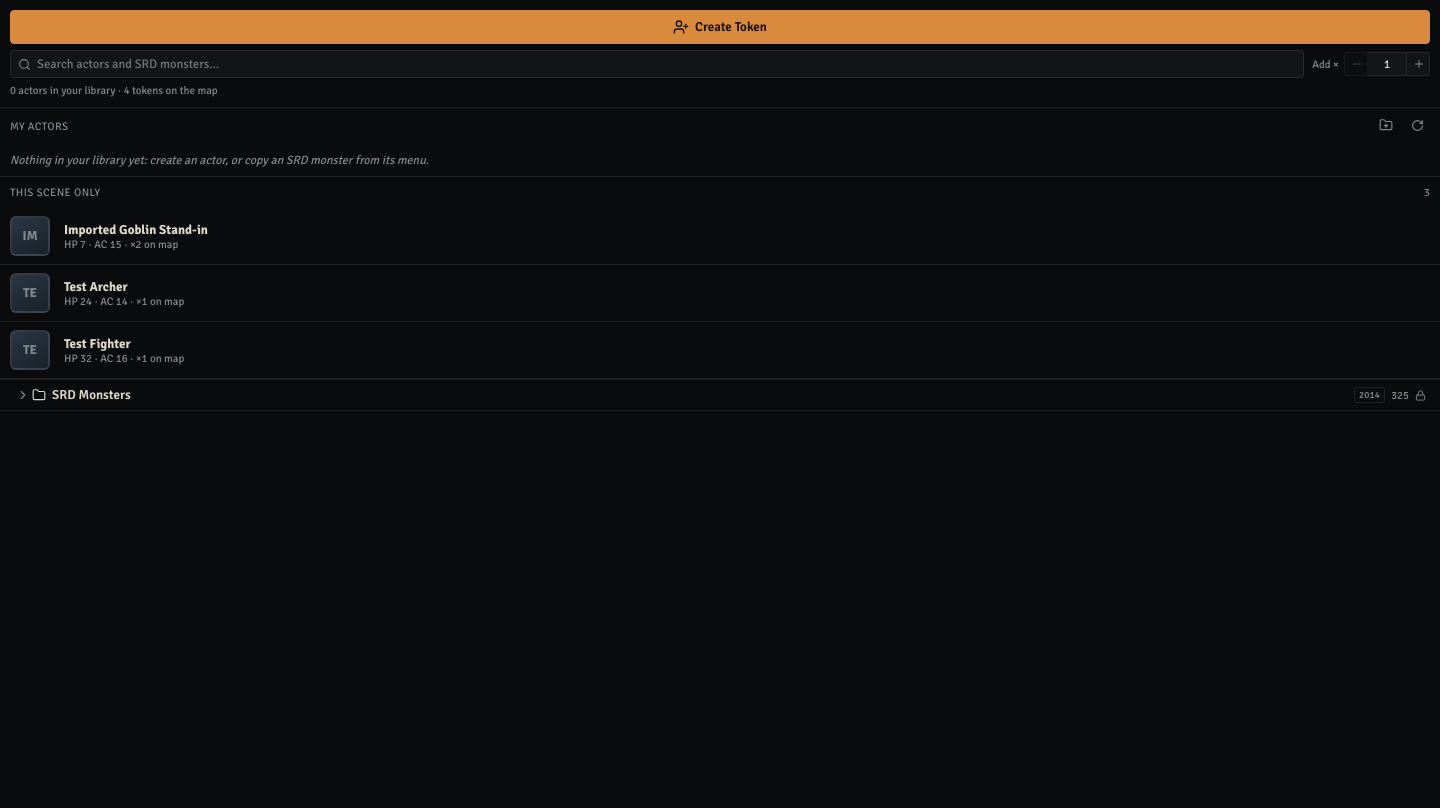
it: SRD monster filters › filters by CR minimum and maximum
The width and height of the screenshot is (1440, 808).
Click the text "SRD Monsters": (91, 395) [52,387,131,403]
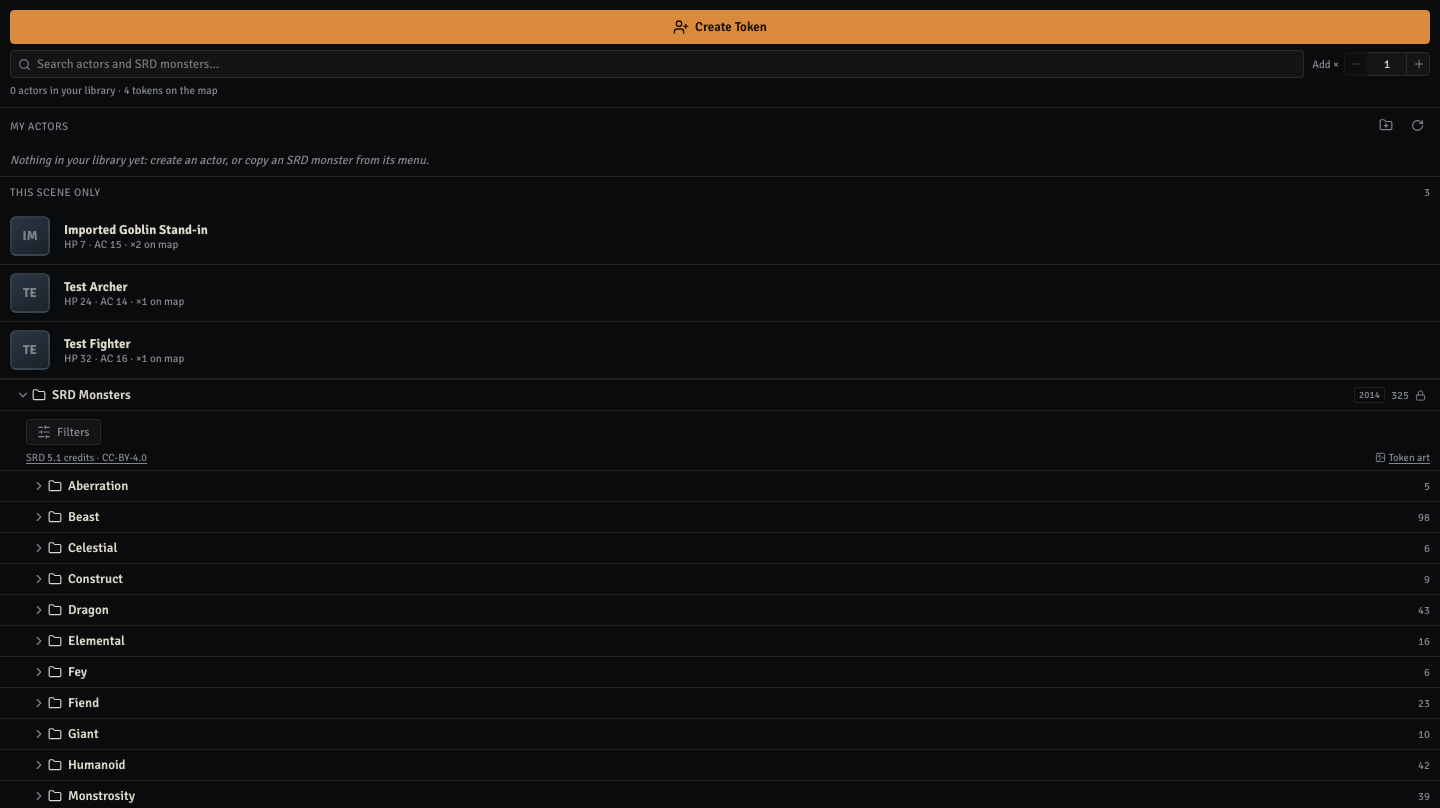
Click the button "Filters": (63, 432) [26,419,101,445]
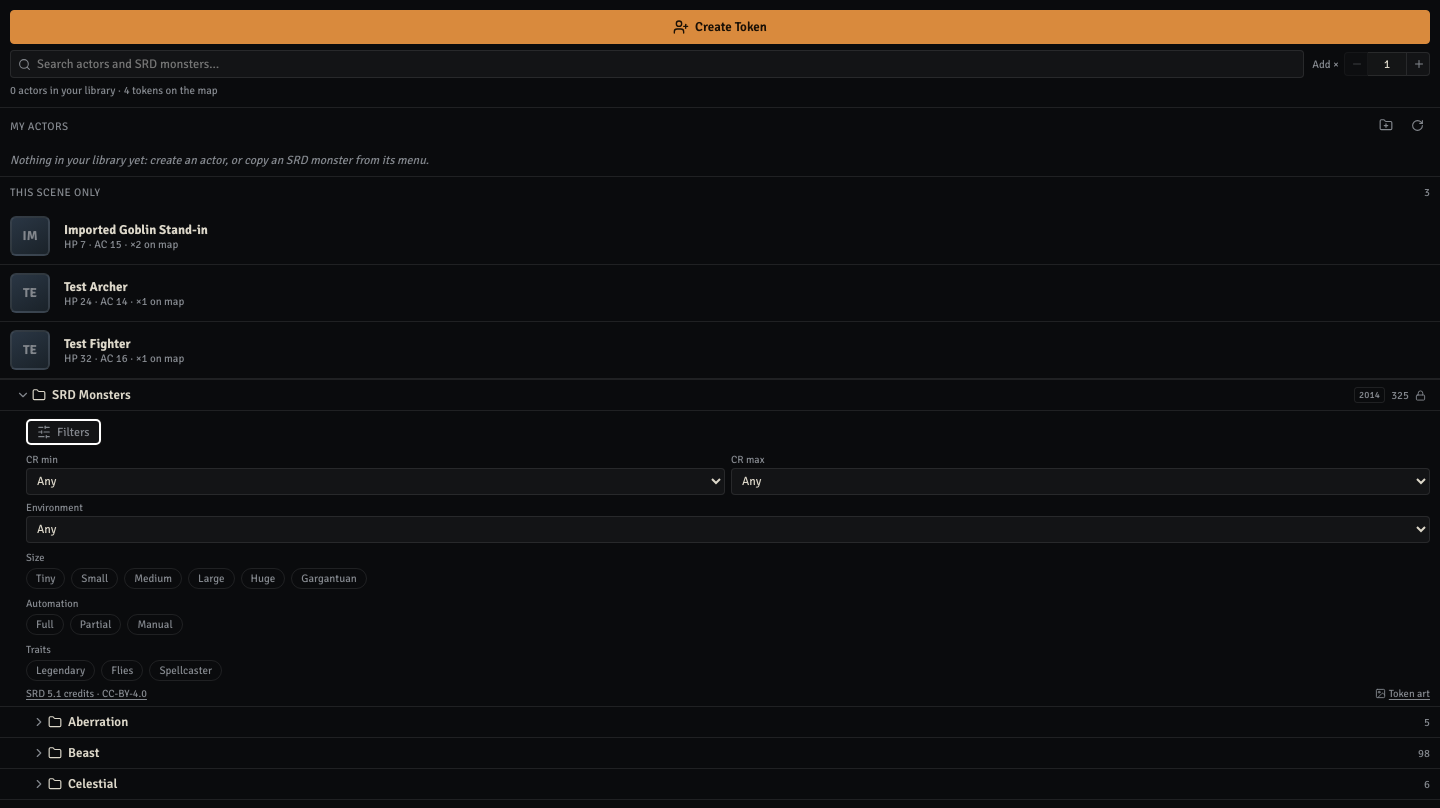
Select "17" in the dropdown named "Minimum challenge rating": (376, 482) [26,468,725,495]
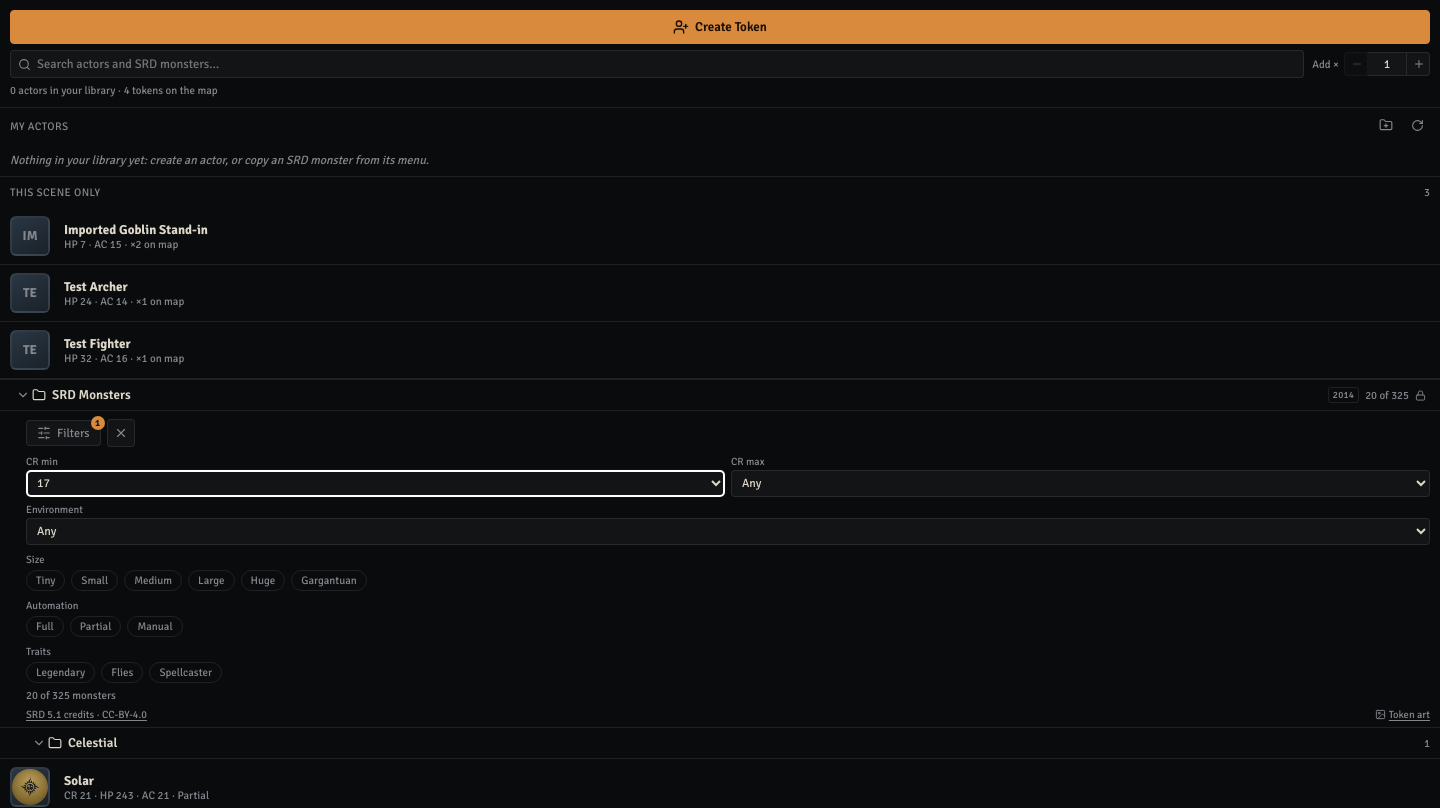
Check: the message reads "20 of 325 monsters", box [26,689,116,702]
Select "17" in the dropdown named "Maximum challenge rating": (1080, 484) [731,470,1430,497]
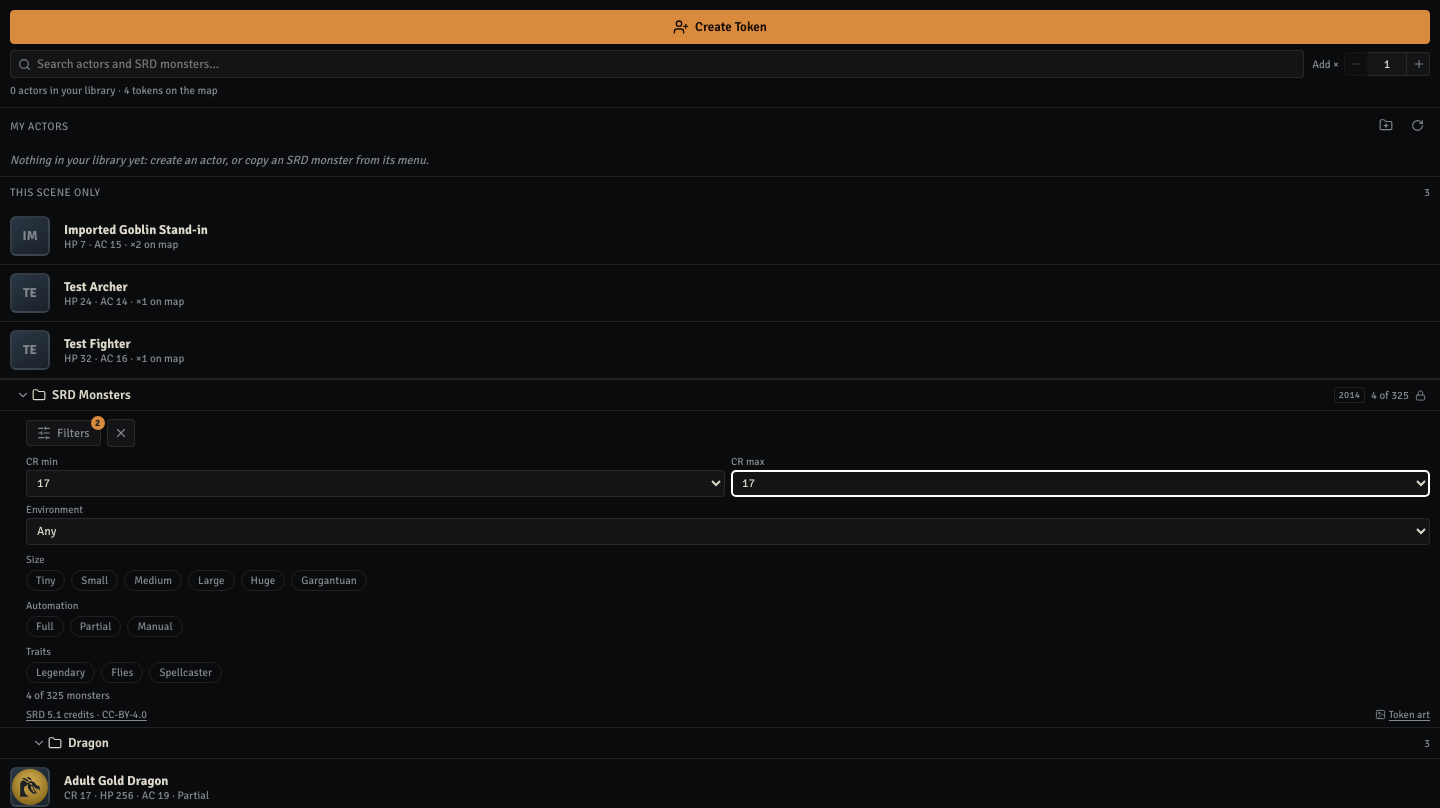
Check: the message reads "4 of 325 monsters", box [26,689,110,702]
